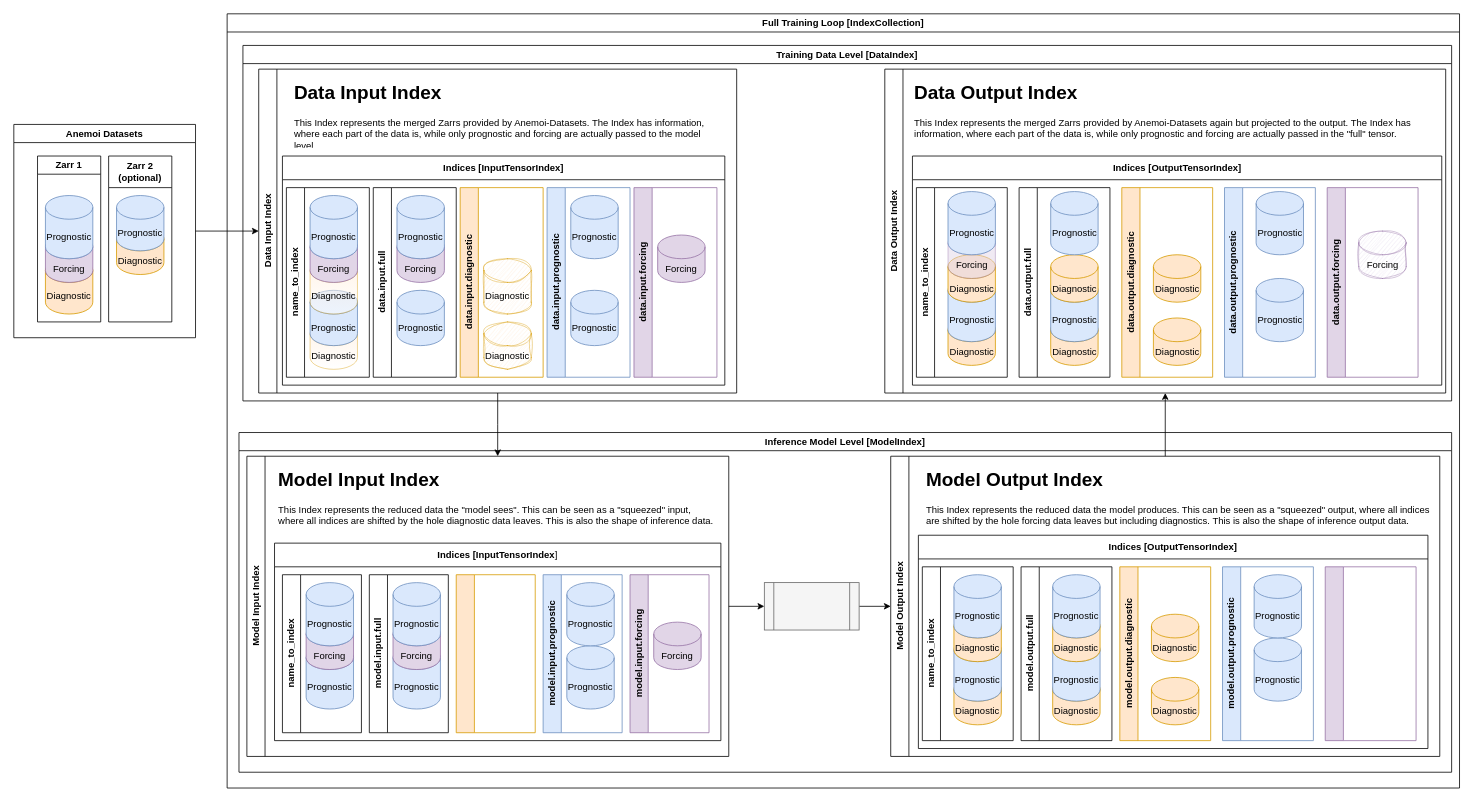
Image size: 1473x802. Some labels were removed from this diagram. Each missing label, with the centre of its shape:
Model: (x=811, y=606)
model.input.diagnostic: (x=495, y=653)
model.output.forcing: (x=1370, y=653)
